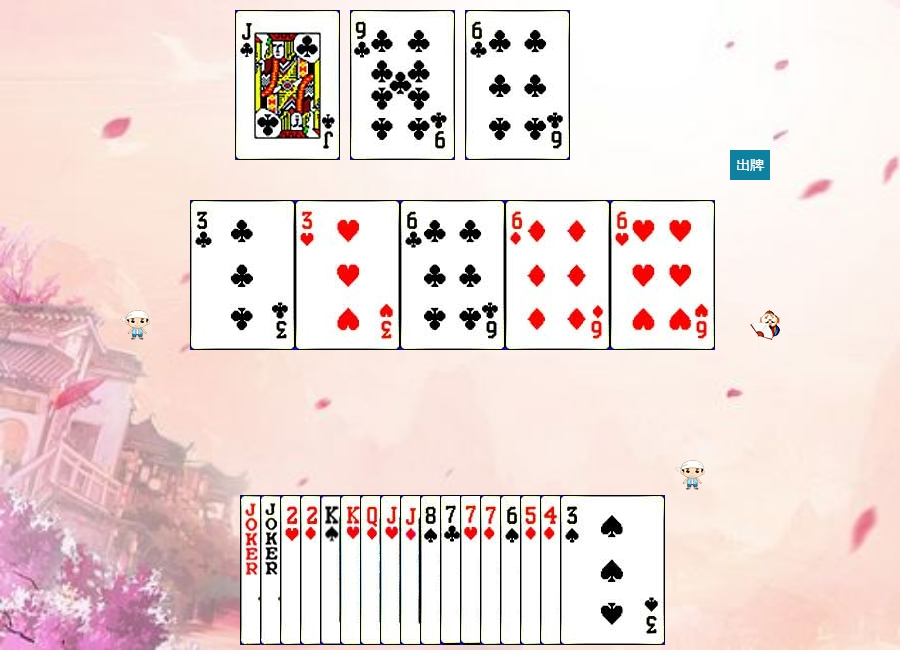11~1: (400, 495, 505, 645)
11~2: (235, 10, 340, 160)
11~3: (380, 495, 485, 645)
12~1: (360, 495, 465, 645)
13~3: (340, 495, 445, 645)
13~4: (320, 495, 425, 645)
15~1: (300, 495, 405, 645)
15~3: (280, 495, 385, 645)
17~3: (260, 495, 365, 645)
18~4: (240, 495, 345, 645)
3~2: (190, 200, 295, 350)
3~3: (295, 200, 400, 350)
3~4: (560, 495, 665, 645)
4~1: (540, 495, 645, 645)
5~1: (520, 495, 625, 645)
6~1: (505, 200, 610, 350)
6~2: (465, 10, 570, 160), (400, 200, 505, 350)
6~3: (610, 200, 715, 350)
6~4: (500, 495, 605, 645)
7~1: (480, 495, 585, 645)
7~2: (440, 495, 545, 645)
7~3: (460, 495, 565, 645)
8~4: (420, 495, 525, 645)
9~2: (350, 10, 455, 160)
